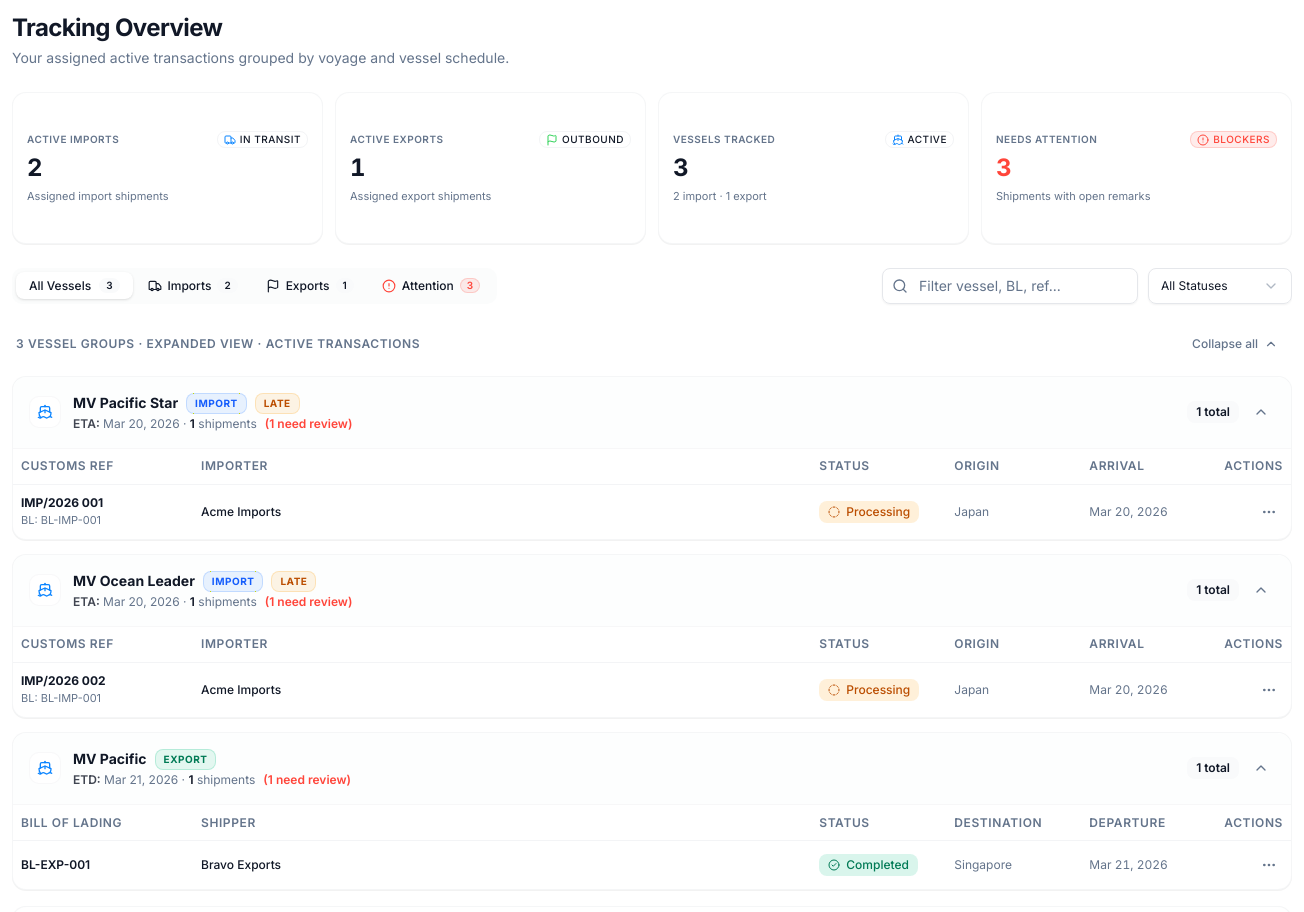
Scenario: TrackingDashboard › renders KPI summary cards with counts and allows toggling expand/collapse all and filtering
Expected: the text "Active Imports" is shown, [27, 132, 119, 147]
Expected: the text "Active Exports" is shown, [350, 132, 444, 147]
Note: Click Collapse all
Click the button "Collapse all". click: click(1235, 344)
box: [1182, 328, 1288, 360]
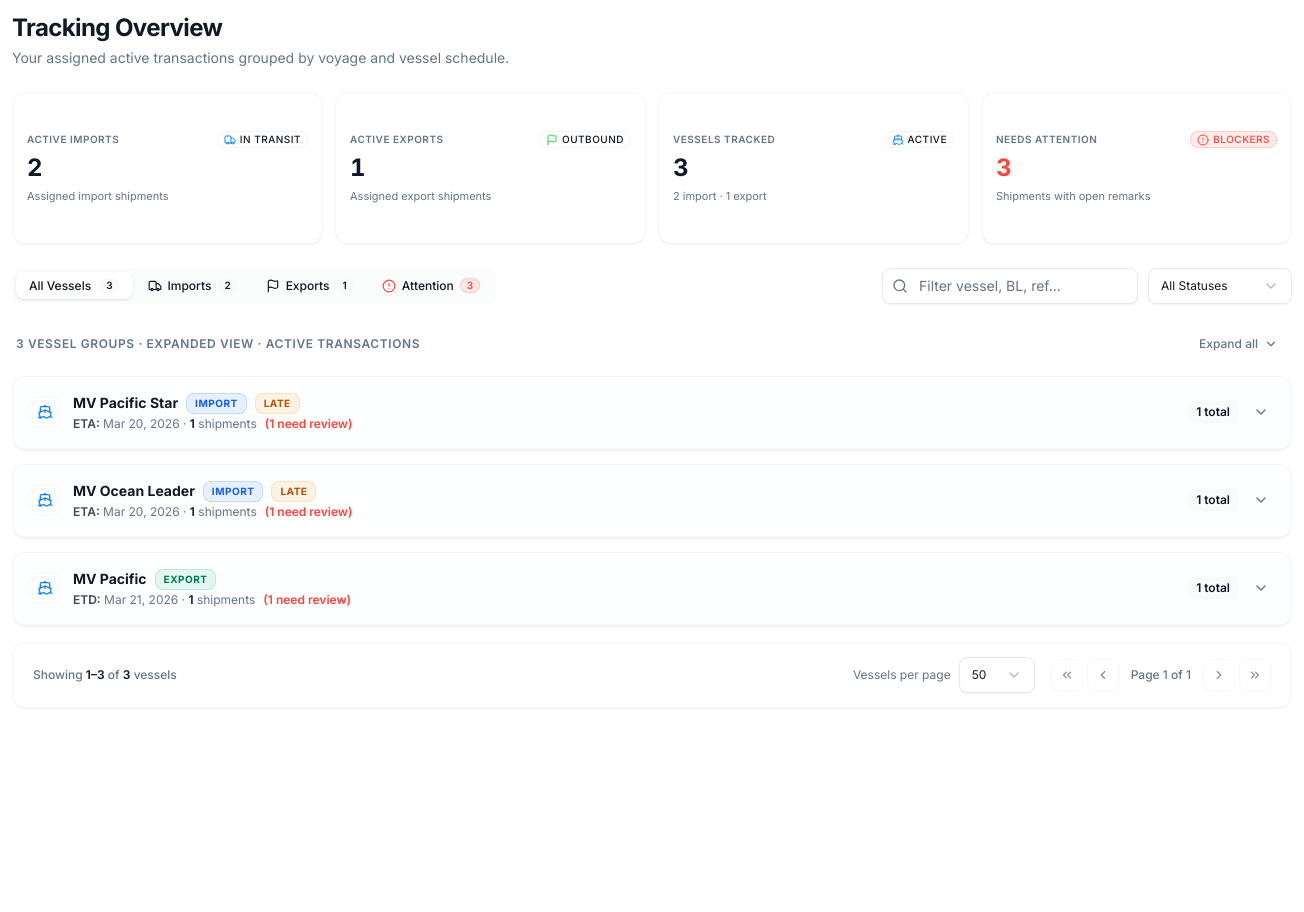
Expected: the text "IMP/2026 001" is gone
Note: Click Expand all
Click the button "Expand all". click: click(1238, 344)
box: [1189, 328, 1288, 360]
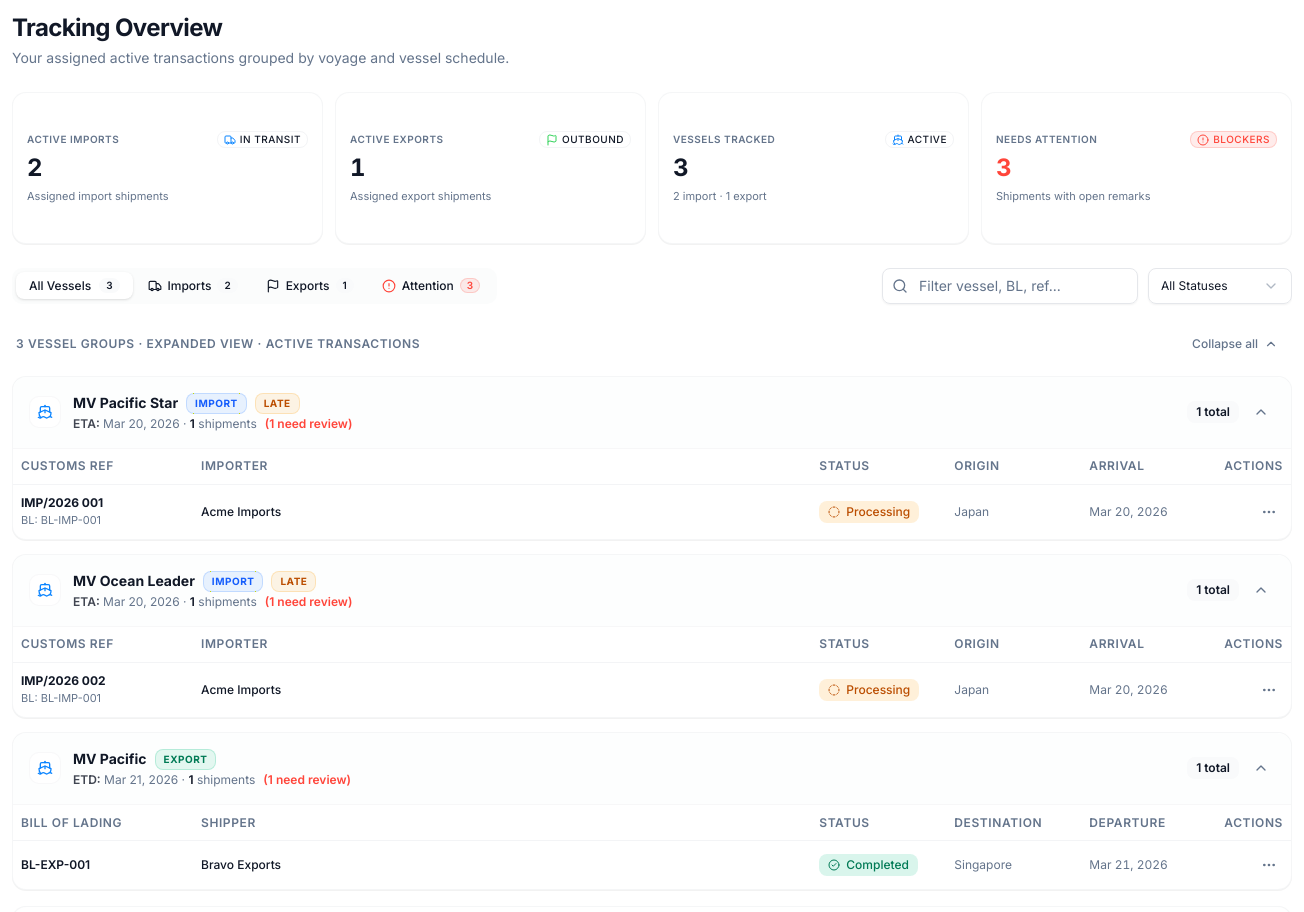
Expected: the text "IMP/2026 001" is shown, [21, 495, 103, 510]
Note: Search input filtering
Type "Ocean Leader" into the field with placeholder "Filter vessel, BL, ref...". click: (1010, 286)
box: [882, 268, 1138, 304]
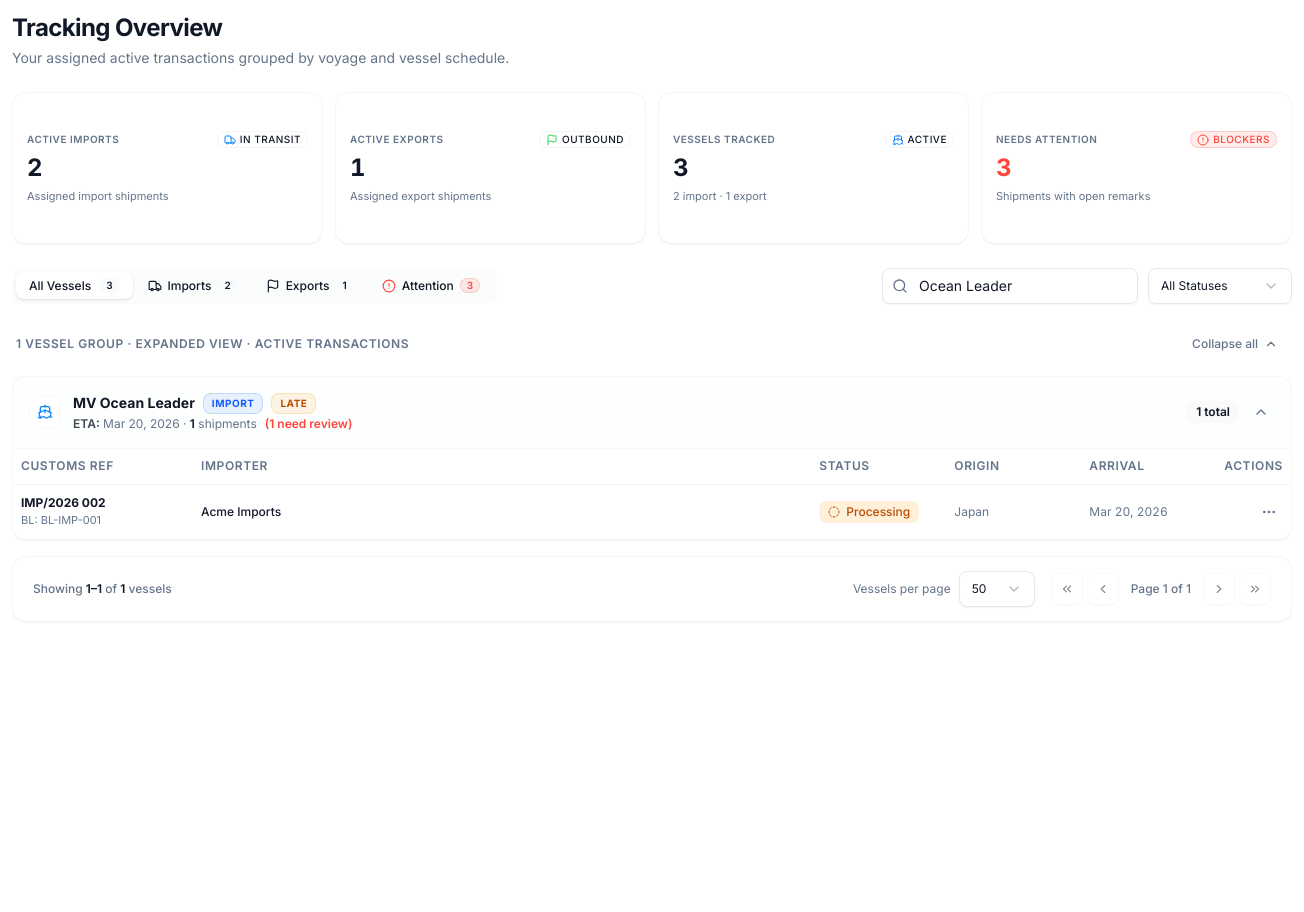
Expected: the text "MV Ocean Leader" is shown, [73, 393, 195, 413]
Expected: the button "MV Pacific Star" is gone
